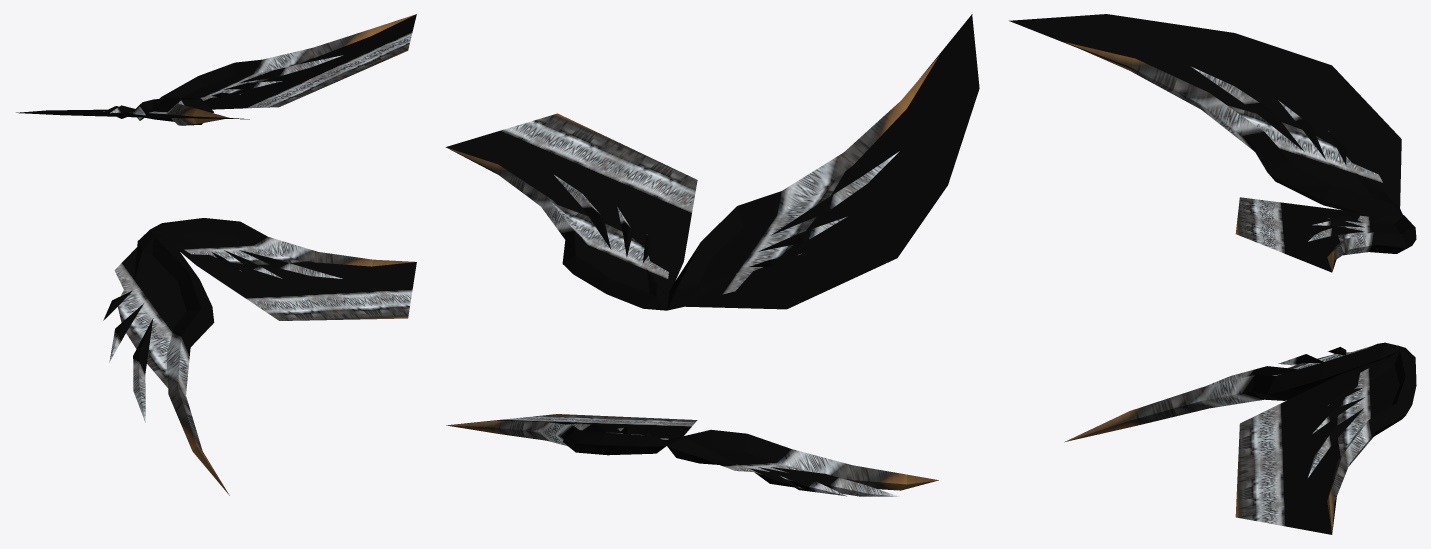
File: Guardian_Wing_Warrior0.FBX
3 renders of one model, left to right at view 1: azimuth 30°, elevation 25°; view 2: azimuth 150°, elevation 25°; view 3: azimuth 270°, elevation 25°, orthographic. The views are drawn at different scales.
Parts seen in each view (by area): view 1: Wing01, Wing02; view 2: Wing02, Wing01; view 3: Wing02, Wing01.
Part boxes in pixels (x1,y1,x2,y2): Wing01: (103, 14, 415, 495); Wing02: (16, 14, 416, 320); Wing02: (445, 14, 979, 442); Wing01: (446, 56, 938, 496); Wing02: (1009, 14, 1401, 534); Wing01: (1064, 42, 1416, 534).
Bounding box in the file's own units: 1.64 × 1.62 × 1.36.
